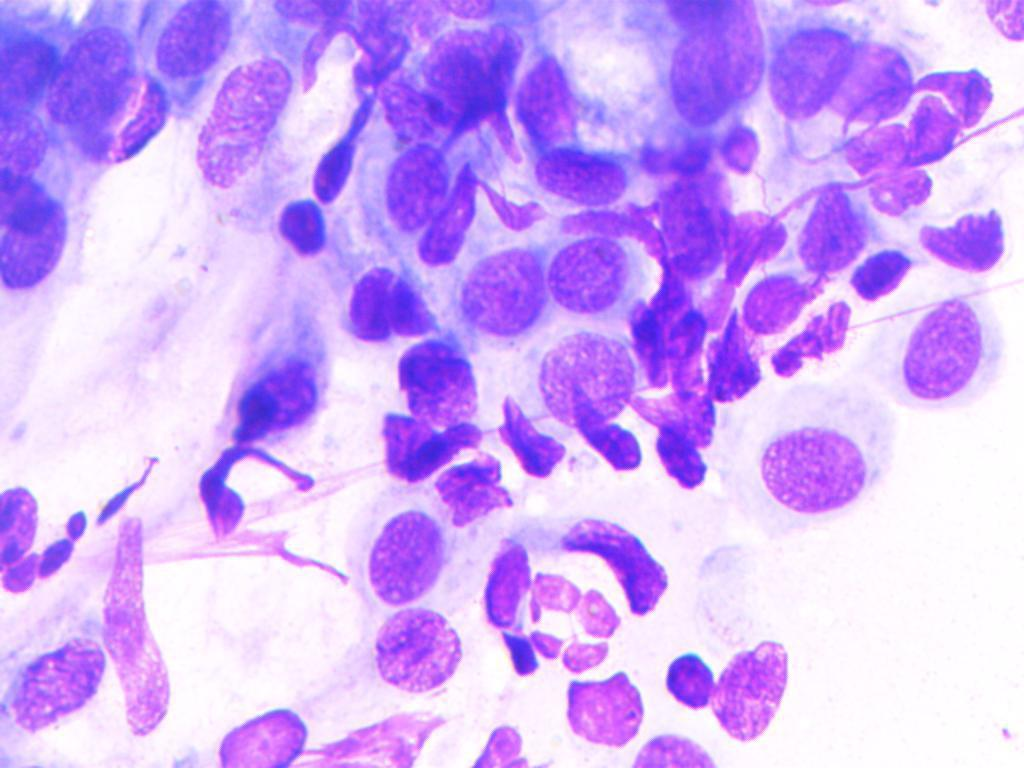artifact: (609, 254, 709, 390), (560, 504, 678, 618), (904, 67, 1018, 167), (831, 114, 931, 213), (416, 161, 488, 264), (372, 416, 486, 480), (434, 452, 520, 528), (702, 309, 772, 400), (440, 707, 544, 768), (616, 386, 738, 437), (482, 540, 534, 633), (573, 678, 638, 749)
epithelial: (747, 381, 901, 526), (874, 275, 1019, 411), (305, 604, 476, 712), (186, 57, 306, 191), (0, 628, 119, 743), (0, 182, 94, 321), (42, 15, 139, 139), (413, 27, 523, 132), (531, 325, 634, 432), (451, 232, 546, 348), (671, 15, 771, 125), (349, 502, 449, 605), (774, 13, 857, 135), (358, 136, 450, 238), (648, 161, 731, 274), (710, 636, 787, 754), (826, 45, 935, 125), (728, 267, 833, 341), (396, 348, 487, 431), (194, 710, 319, 768), (551, 239, 631, 325), (523, 145, 632, 207), (709, 201, 798, 274), (508, 60, 581, 148), (0, 6, 69, 99), (0, 91, 63, 192), (154, 4, 234, 82)
goblet_cell: (919, 122, 1008, 283)
metaplastic: (497, 407, 570, 482), (651, 422, 714, 501), (658, 640, 720, 712), (569, 408, 638, 472), (313, 132, 364, 206), (277, 197, 337, 258), (851, 249, 914, 300)
neutrophil: (527, 558, 626, 681), (215, 359, 333, 440), (333, 263, 445, 341), (786, 185, 873, 279), (0, 467, 49, 593)
